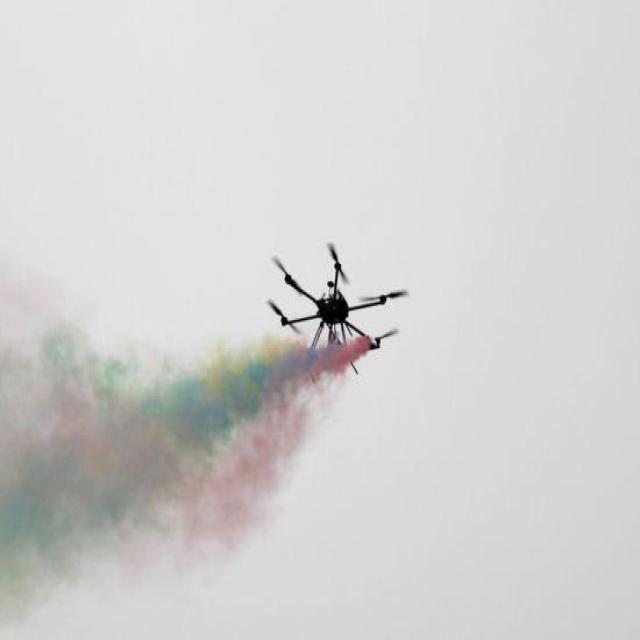drone: (266, 238, 410, 381)
